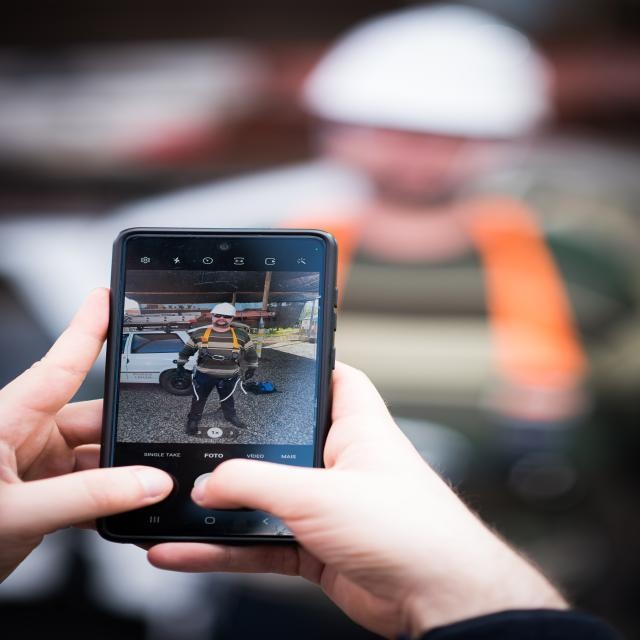Arnes_seguridad: (192, 324, 242, 402)
